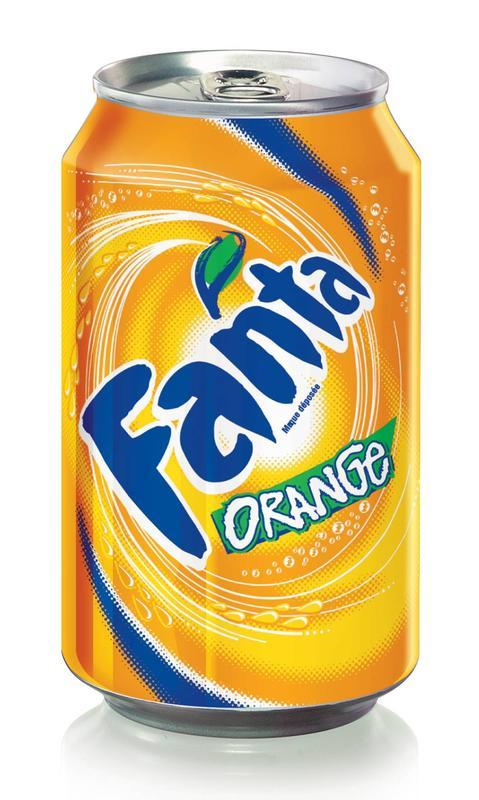metal: (62, 50, 420, 738)
